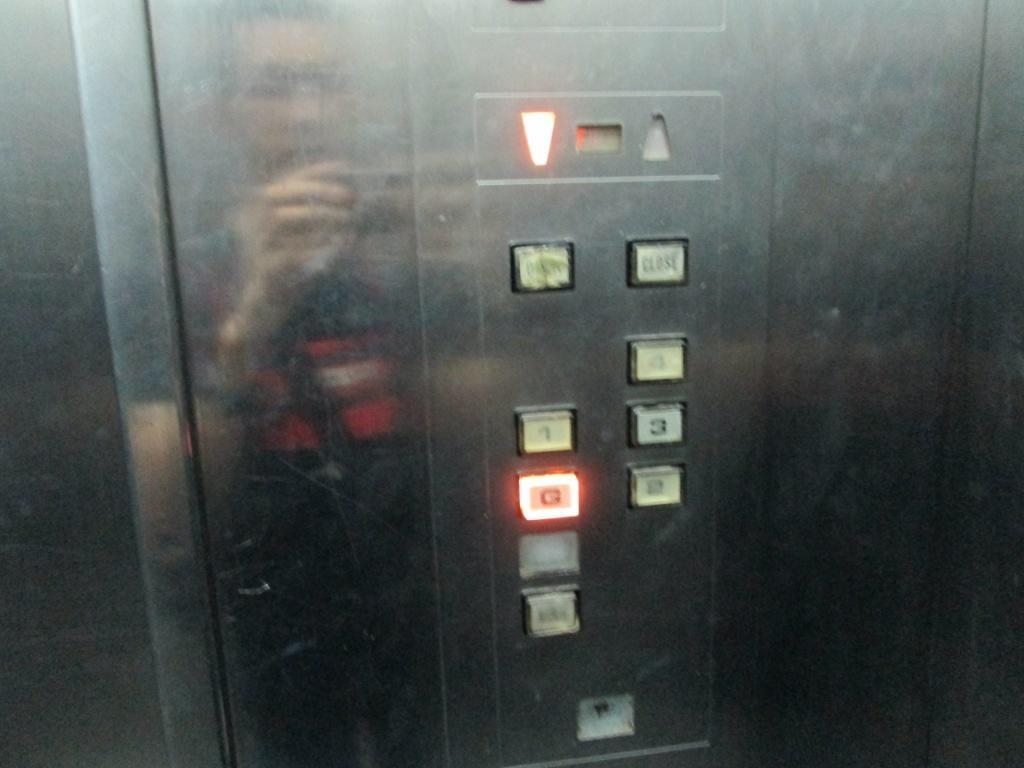1: (512, 403, 578, 458)
2: (622, 460, 688, 513)
3: (619, 396, 691, 451)
4: (619, 333, 691, 386)
G: (513, 466, 585, 523)
blur: (500, 234, 576, 295), (521, 583, 584, 643), (572, 689, 638, 743)
close: (621, 229, 690, 291)
unknown: (512, 523, 583, 580)
